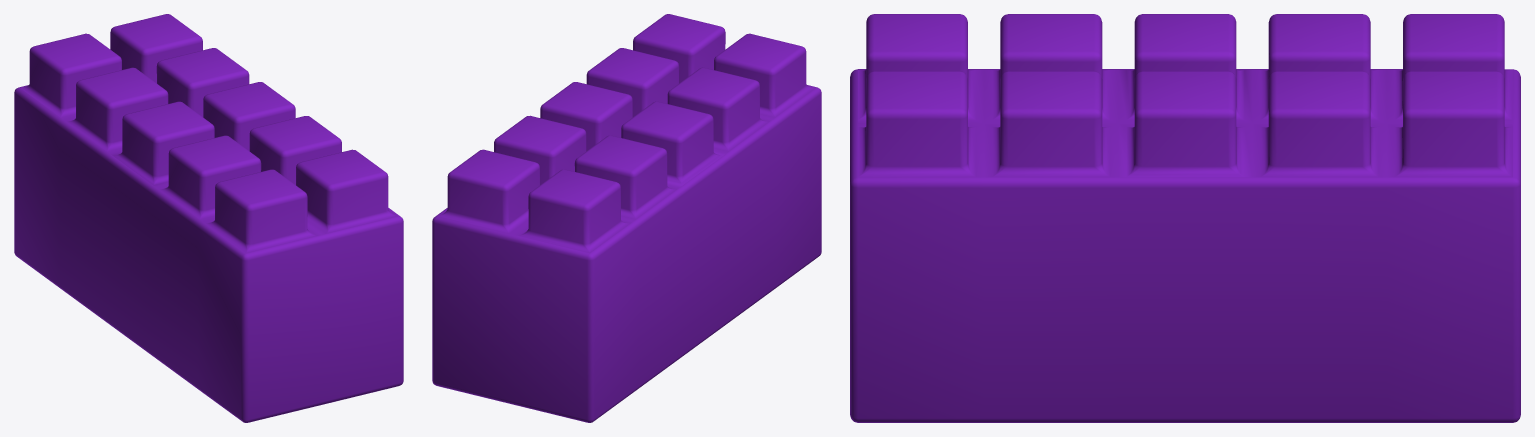
The model's file is 10block.fbx.
3 views of the same model, side by side, from view 1: azimuth 30°, elevation 25°; view 2: azimuth 150°, elevation 25°; view 3: azimuth 270°, elevation 25° (orthographic). The views are drawn at different scales.
Parts seen in each view (by area): view 1: Cube.004; view 2: Cube.004; view 3: Cube.004.
Part boxes in pixels (x1,y1,x2,y2): Cube.004: [14, 14, 403, 422]; Cube.004: [432, 14, 821, 422]; Cube.004: [850, 14, 1520, 422].
Size of the model in its own units: 119 by 149 by 296.
